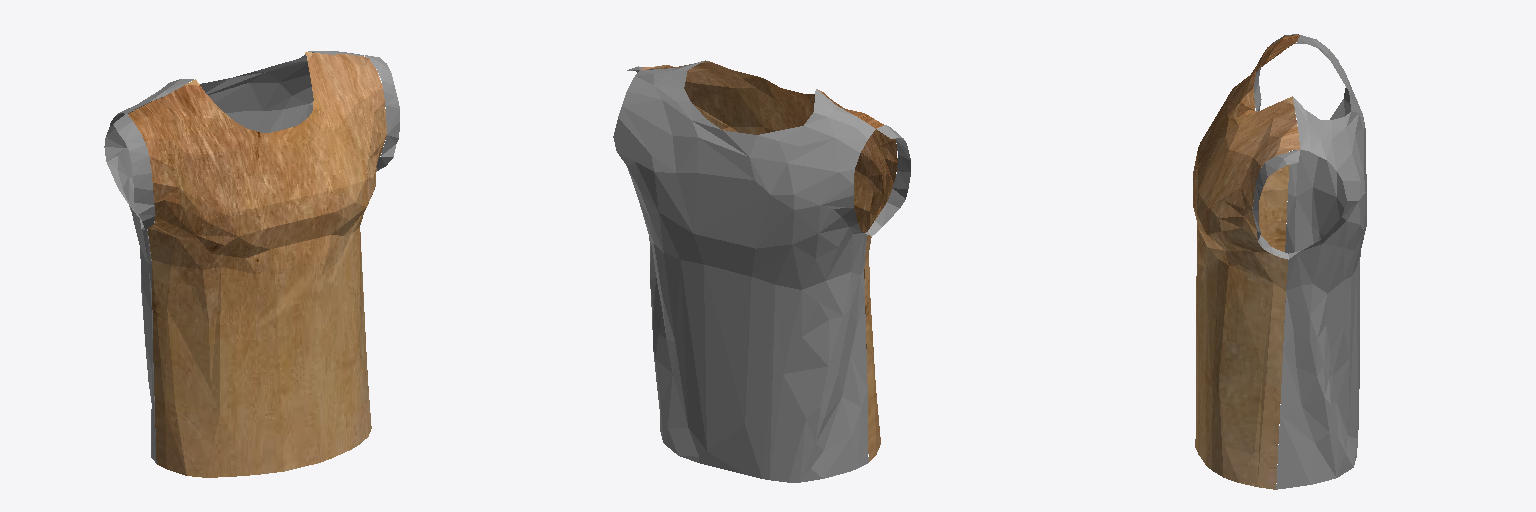
The picture shows the model from 3 angles: view 1: azimuth 30°, elevation 25°; view 2: azimuth 150°, elevation 25°; view 3: azimuth 270°, elevation 25°; orthographic projection.
Parts seen in each view (by area): view 1: T_shirt; view 2: T_shirt; view 3: T_shirt.
Part boxes in pixels (x1,y1,x2,y2): T_shirt: (104, 51, 399, 477); T_shirt: (613, 60, 910, 482); T_shirt: (1193, 34, 1366, 489).
Size of the model in its own units: 0.2935 by 0.3892 by 0.1639.
2 materials, 1 textured.